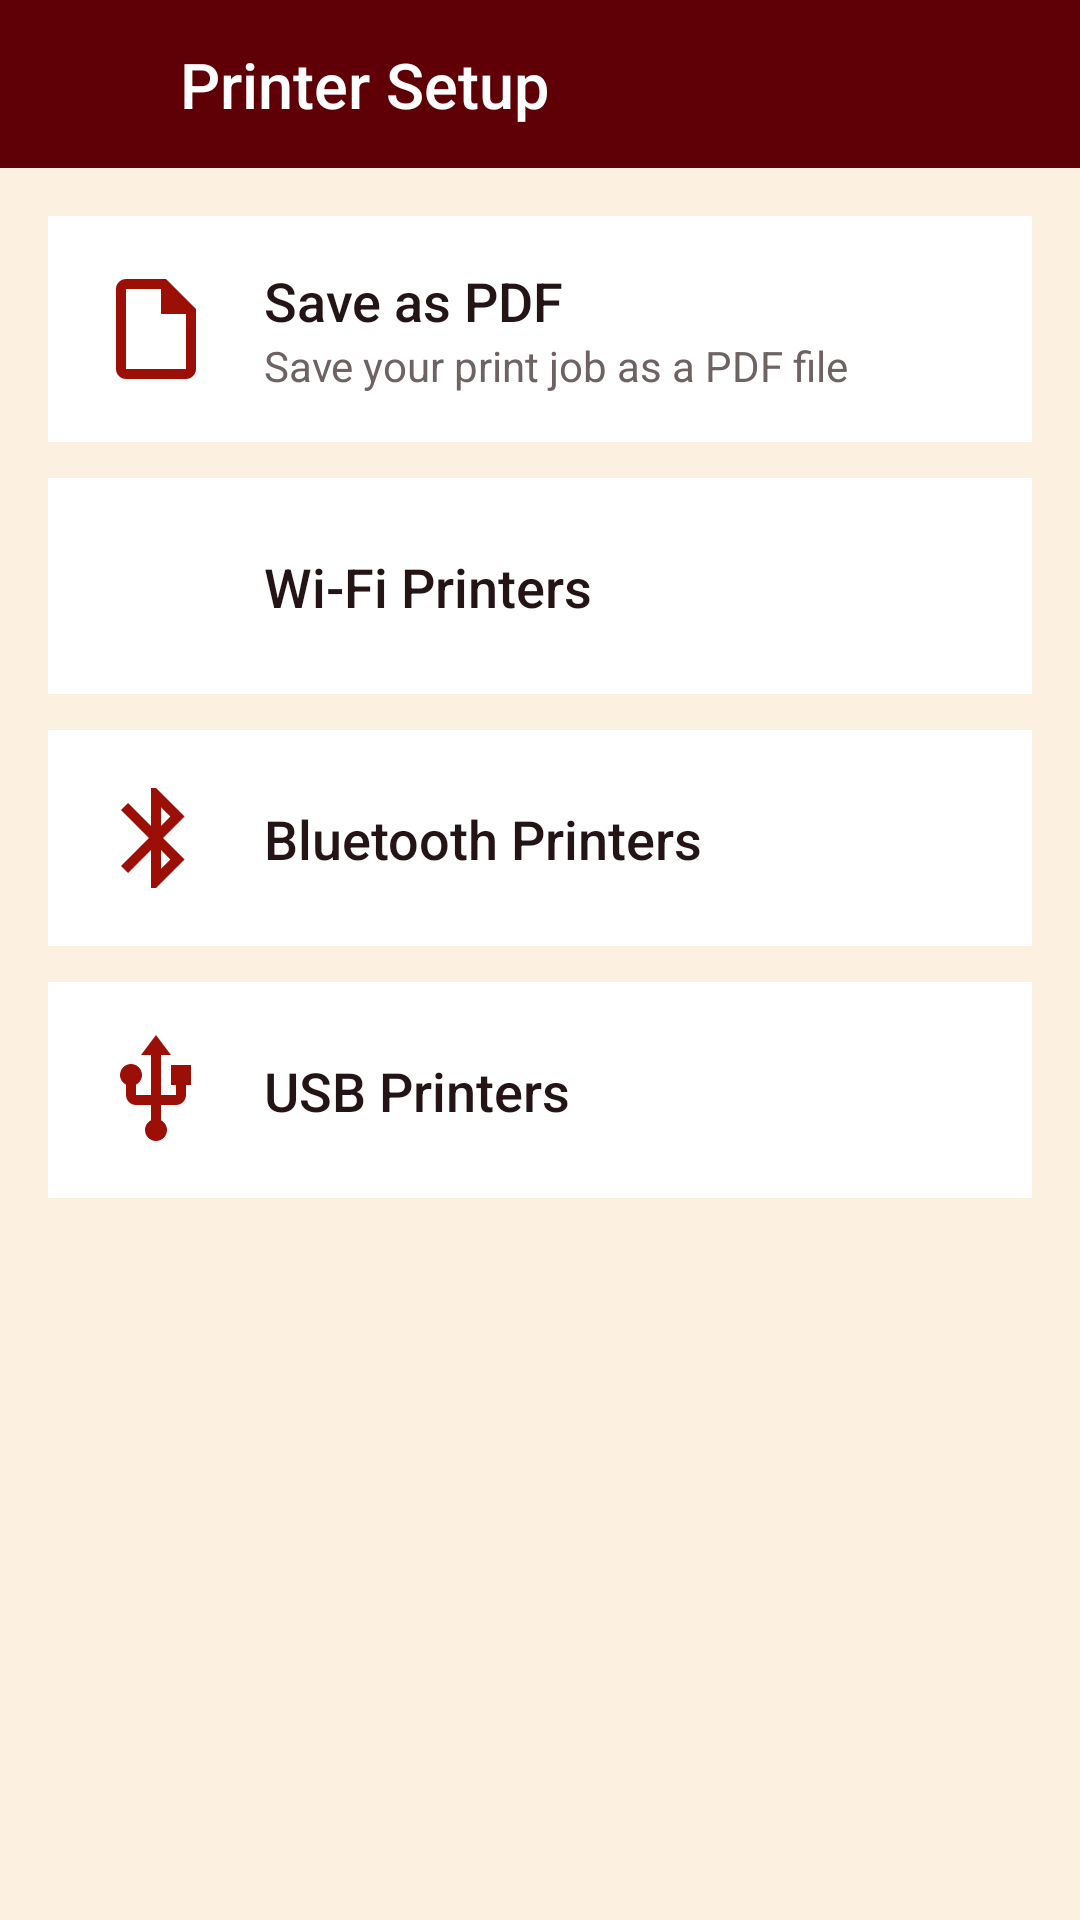

Named icons in this screenshot (1080 x 1920) and their centers, (x=x, y=y):
document: (x=156, y=329)
